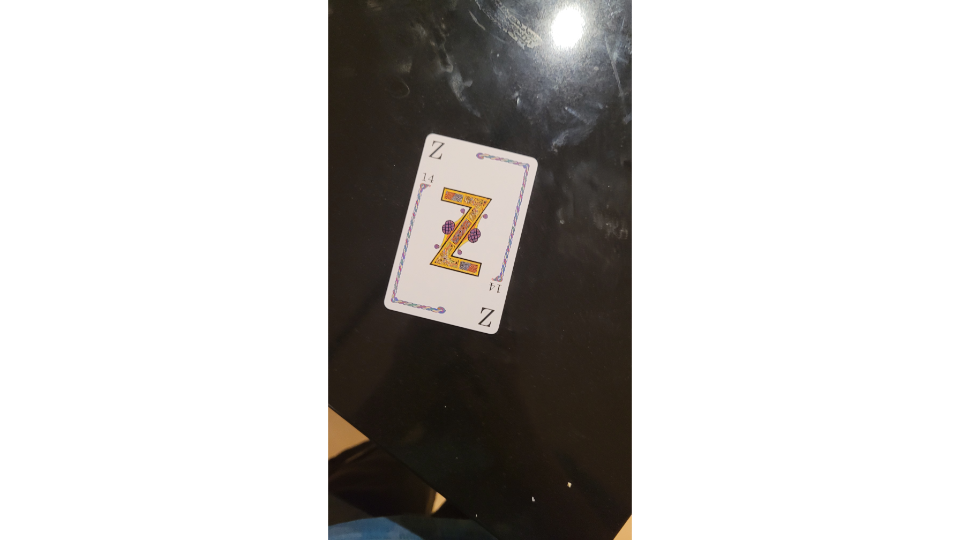Z: (381, 130, 541, 339)
